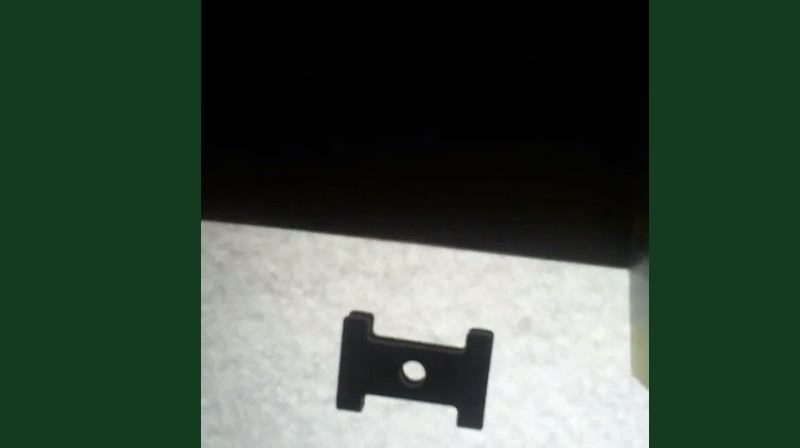O002: (331, 309, 496, 434)
